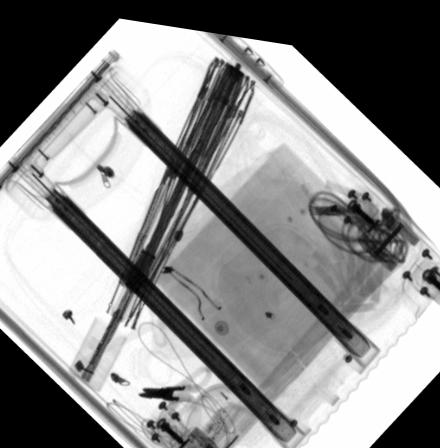Scissors: (137, 358, 211, 418)
